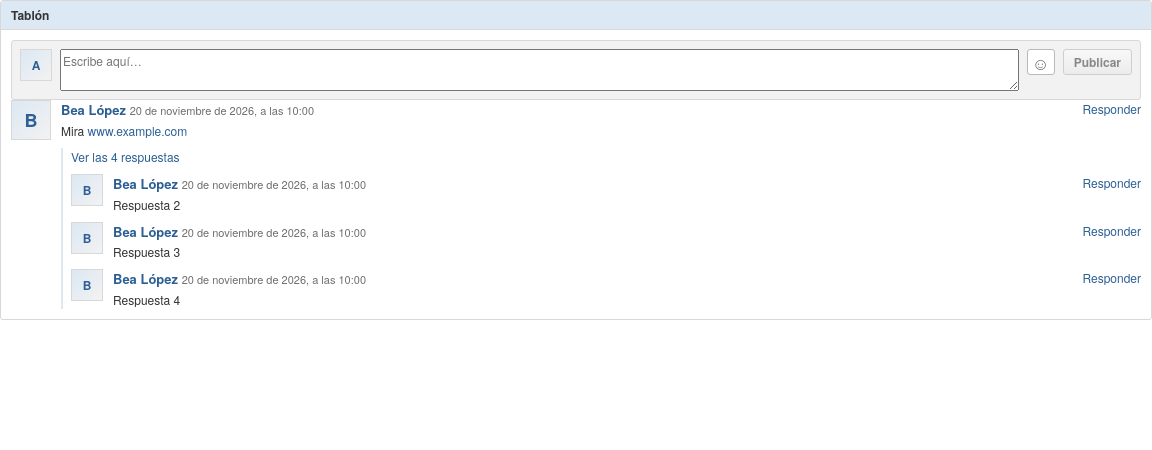
Tablón: hilos, emoticonos y enlaces › shows threads, collapses long ones and replies in the same thread
The width and height of the screenshot is (1152, 450).
expect the text "Respuesta 1" is not shown: met
Click the button "Ver las 4 respuestas" at (125, 157), box top-left (71, 148), bottom-right (180, 166)
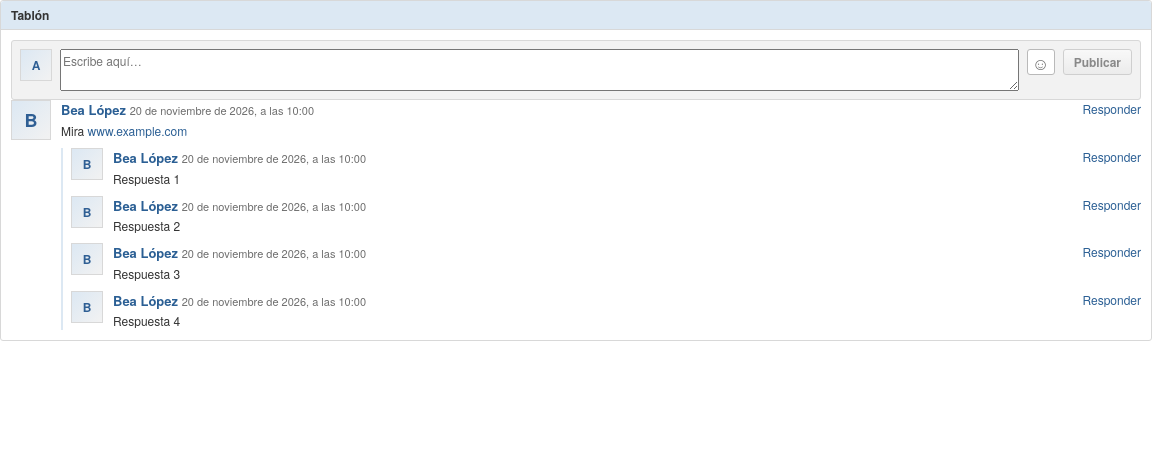
expect the text "Respuesta 1" is shown: met, box top-left (113, 170), bottom-right (180, 186)
Click the button with aria-label "Responder al mensaje de Bea" at (1112, 109), box top-left (1082, 100), bottom-right (1141, 118)
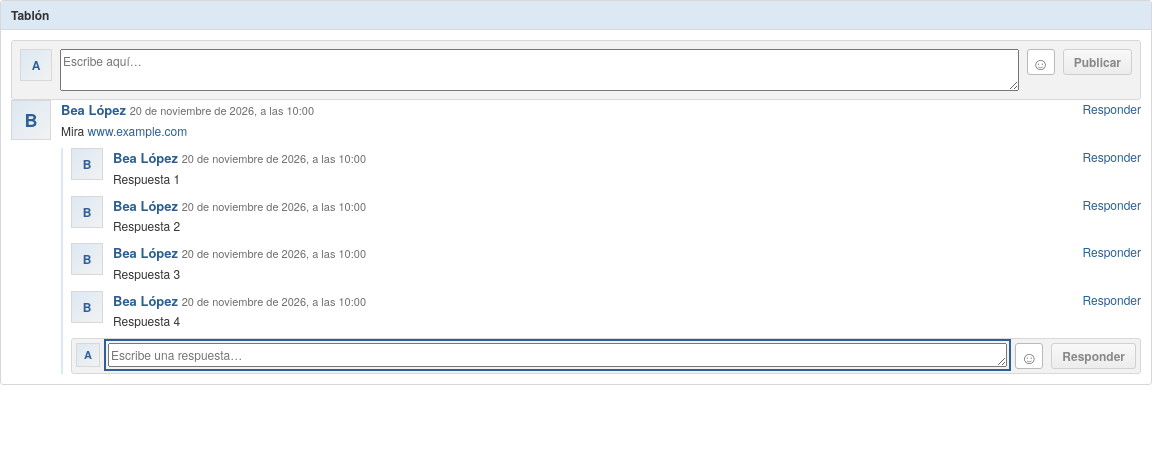
Type "¡Yo también!" into the text box named "Responde a Bea" at (558, 355), box top-left (108, 343), bottom-right (1007, 367)
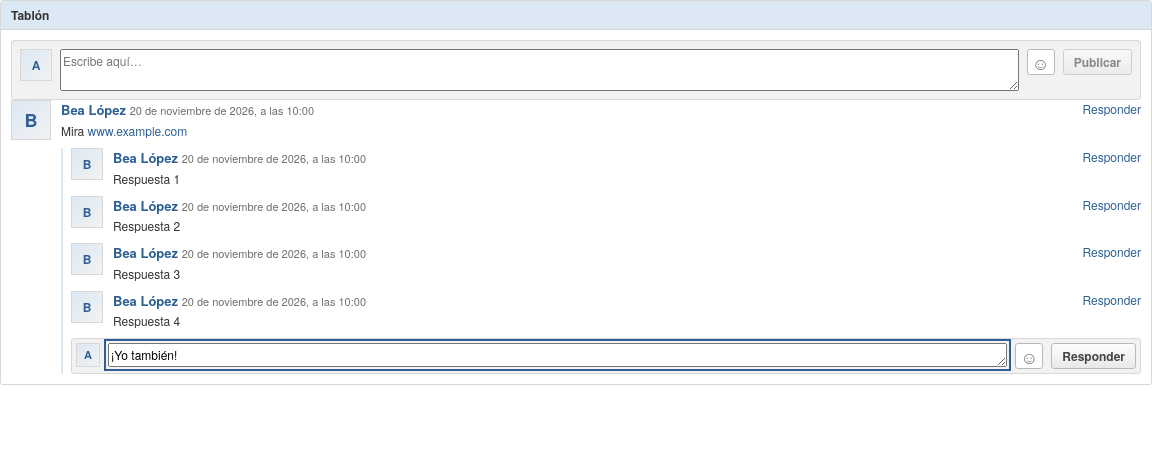
Click the 6th button "Responder" at (1094, 356), box top-left (1051, 343), bottom-right (1136, 369)
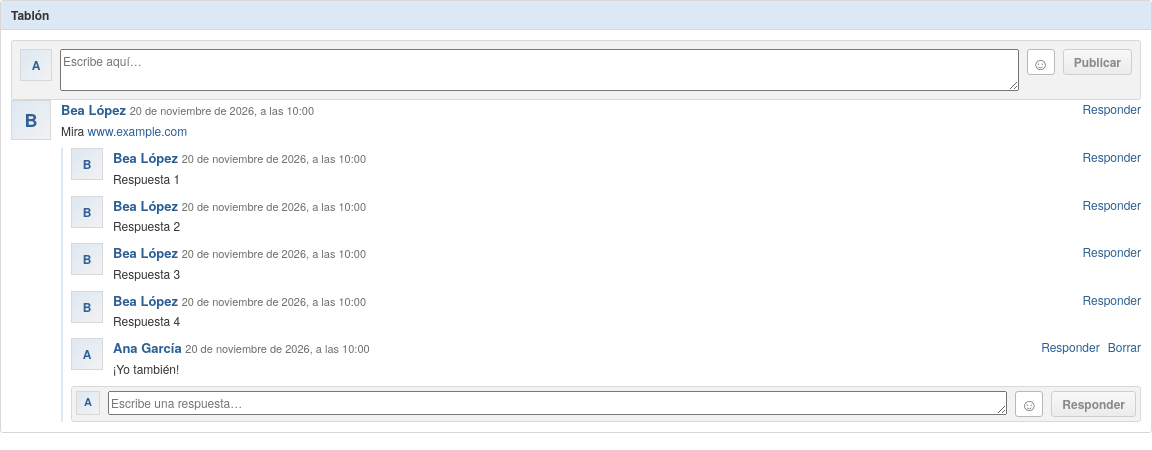
expect the list item that starts with "Ana" shows "¡Yo también!": met, box top-left (113, 360), bottom-right (179, 376)
